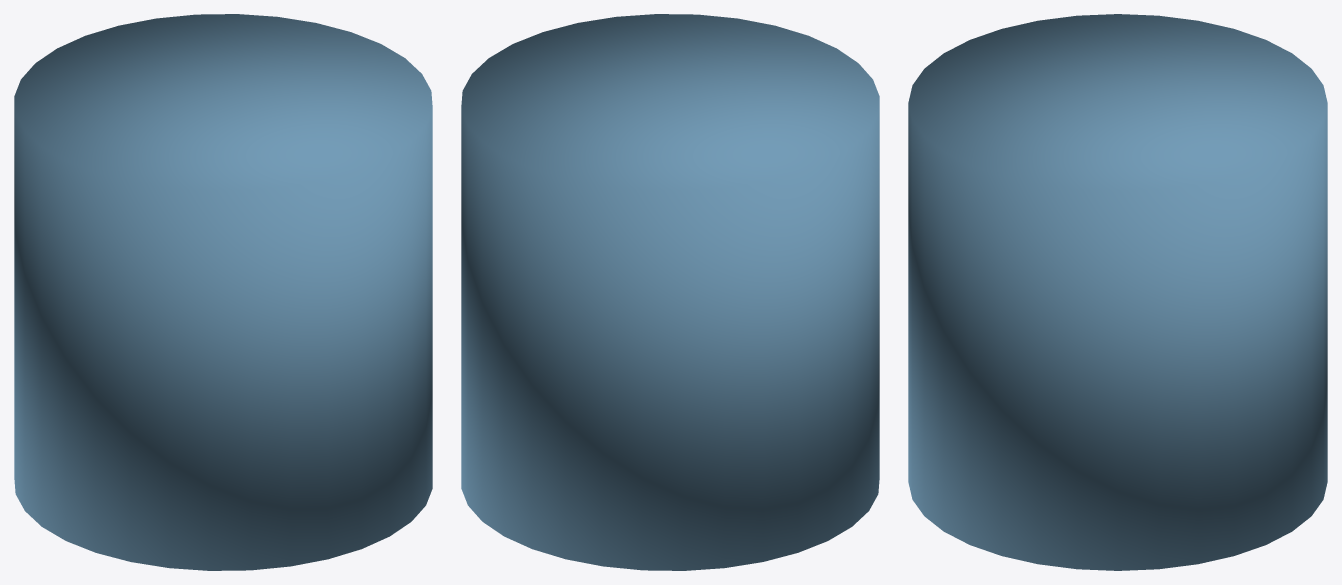
The model's file is Pawn.fbx.
3 views of the same model, side by side, from view 1: azimuth 30°, elevation 25°; view 2: azimuth 150°, elevation 25°; view 3: azimuth 270°, elevation 25° (orthographic).
Visible parts, largest first — view 1: PawnCard; view 2: PawnCard; view 3: PawnCard.
Part boxes in pixels (x1,y1,x2,y2): PawnCard: (14, 14, 432, 570); PawnCard: (461, 14, 879, 570); PawnCard: (908, 14, 1327, 570).
Size of the model in its own units: 0.1189 by 0.1189 by 0.1189.
